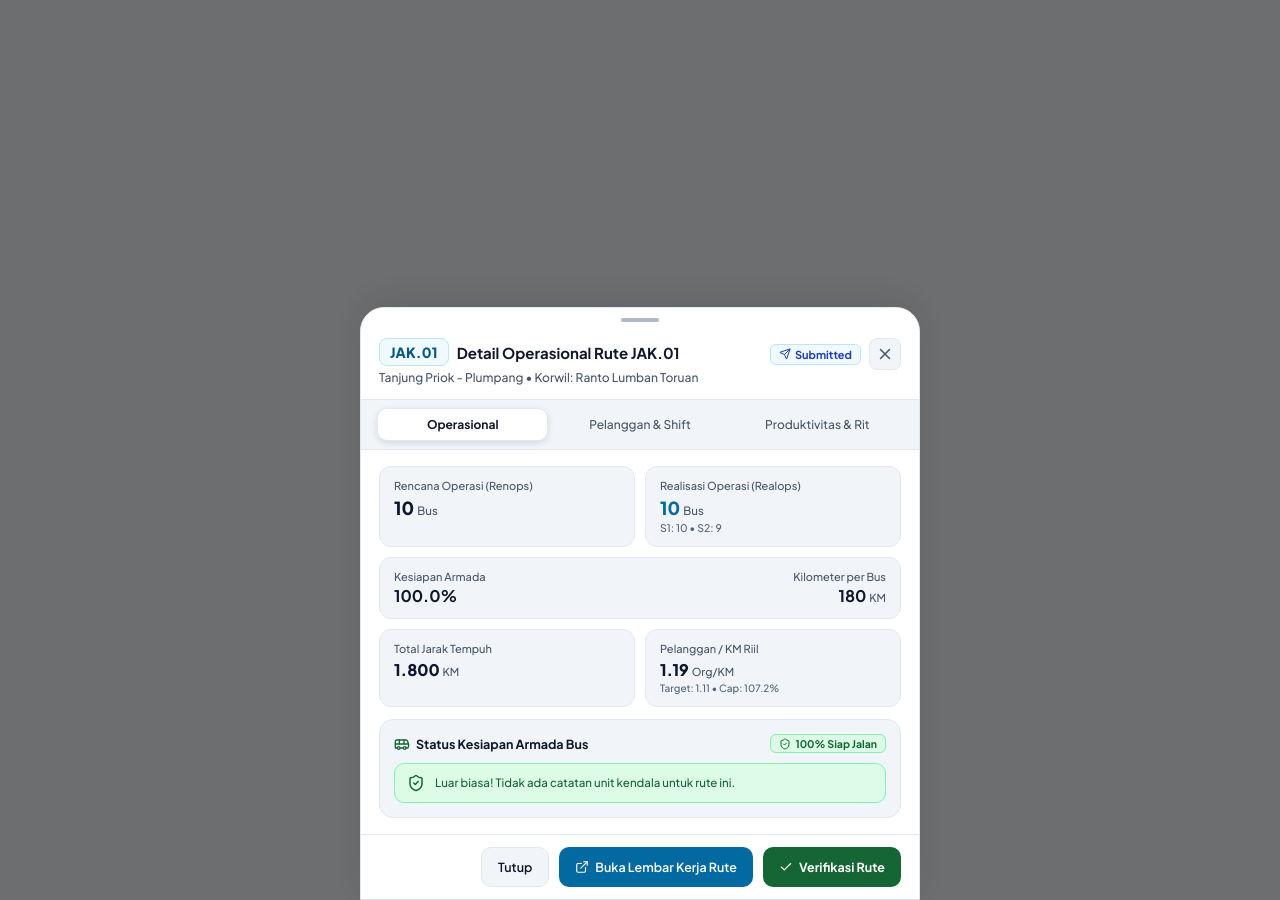
it: MonitoringRouteDetailModal › switches to Pelanggan & Shift and Produktivitas & Rit tabs on click
Click the button with test id "tab-shift" at (640, 424), box 554,408 -> 726,441
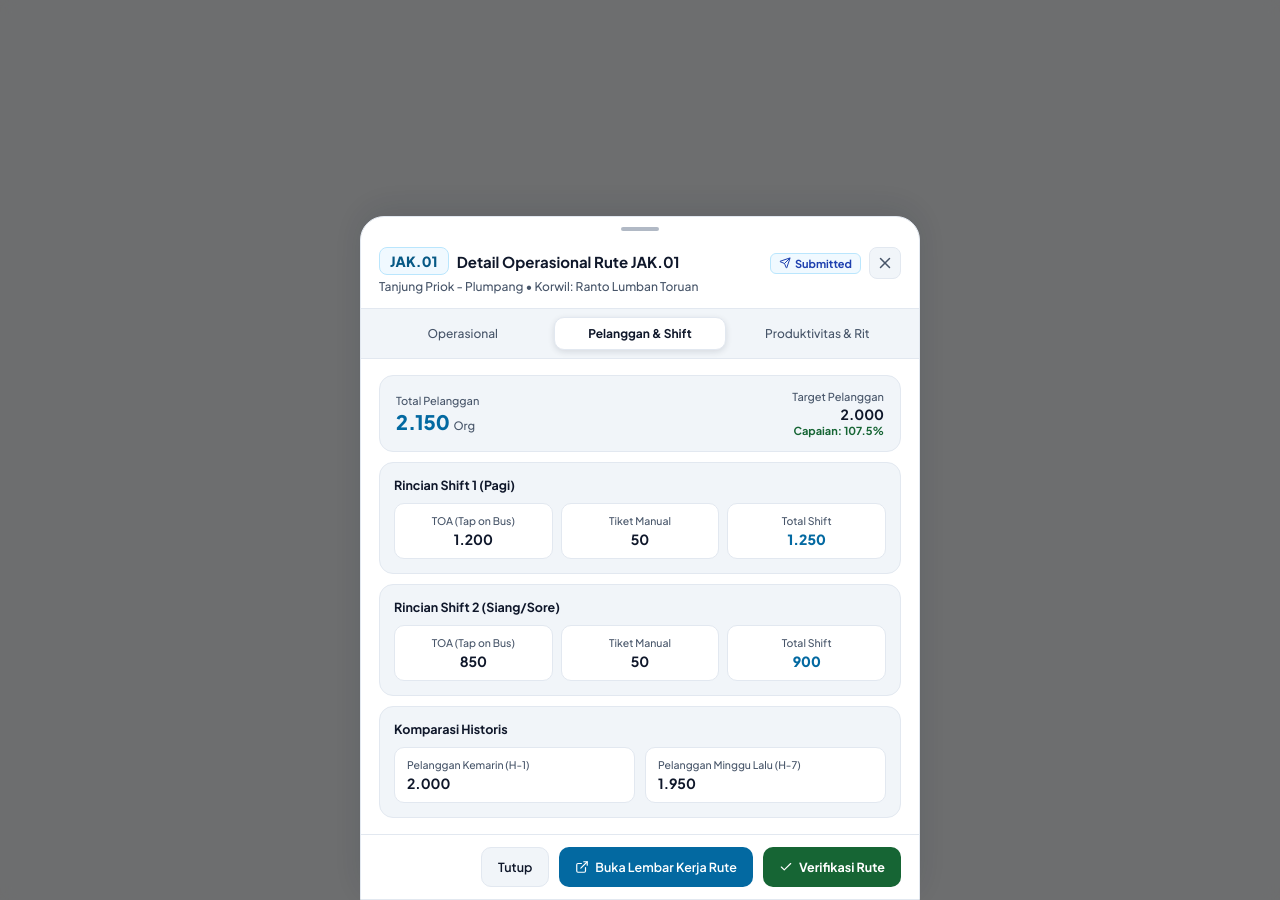
Check: the text "Rincian Shift 1 (Pagi)" is shown, box 394,477 -> 515,493
Check: the text "1.200" is shown, box 454,530 -> 493,548
Check: the text "50" is shown, box 396,408 -> 479,434
Click the button with test id "tab-produktivitas" at (817, 334), box 732,317 -> 903,350
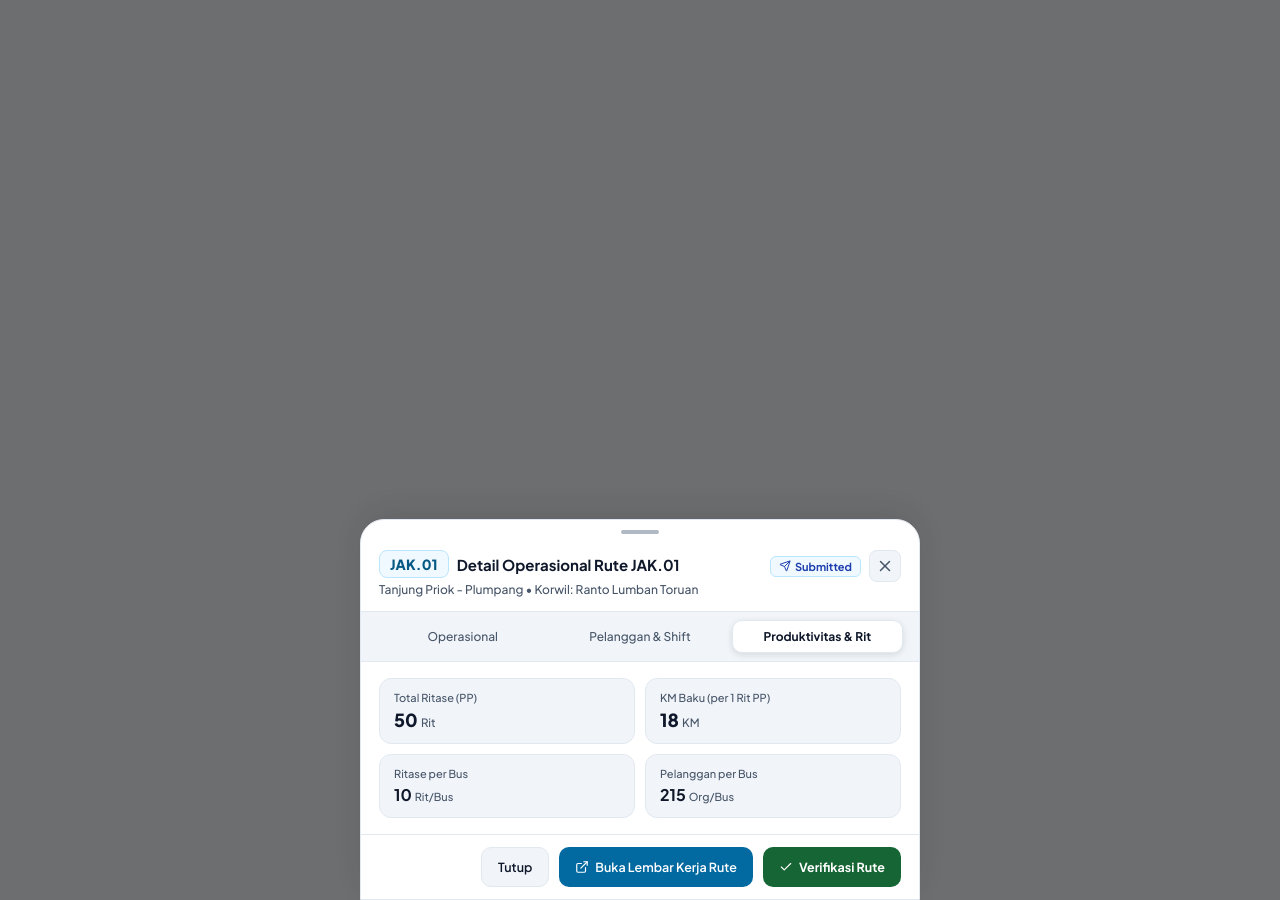
Check: the text "Total Ritase (PP)" is shown, box 394,691 -> 477,704
Check: the text "KM Baku (per 1 Rit PP)" is shown, box 660,691 -> 770,704
